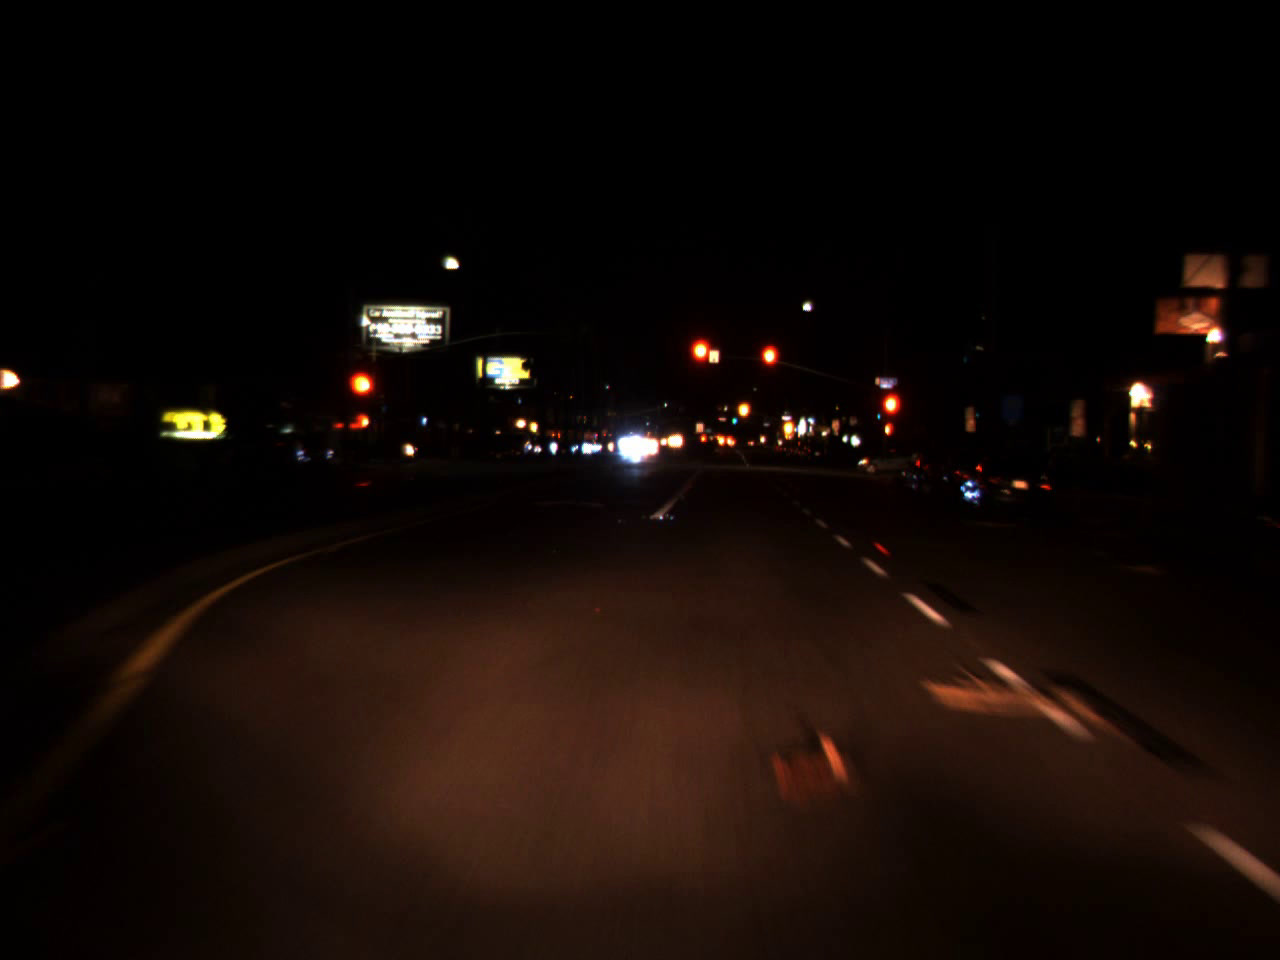stop: (345, 367, 376, 423), (687, 335, 714, 389), (880, 390, 902, 441), (758, 342, 780, 387)
warning: (735, 394, 751, 424), (779, 412, 794, 442)
